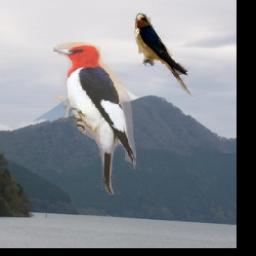Swallow: (133, 14, 195, 100)
Woodpecker: (54, 43, 137, 196)
